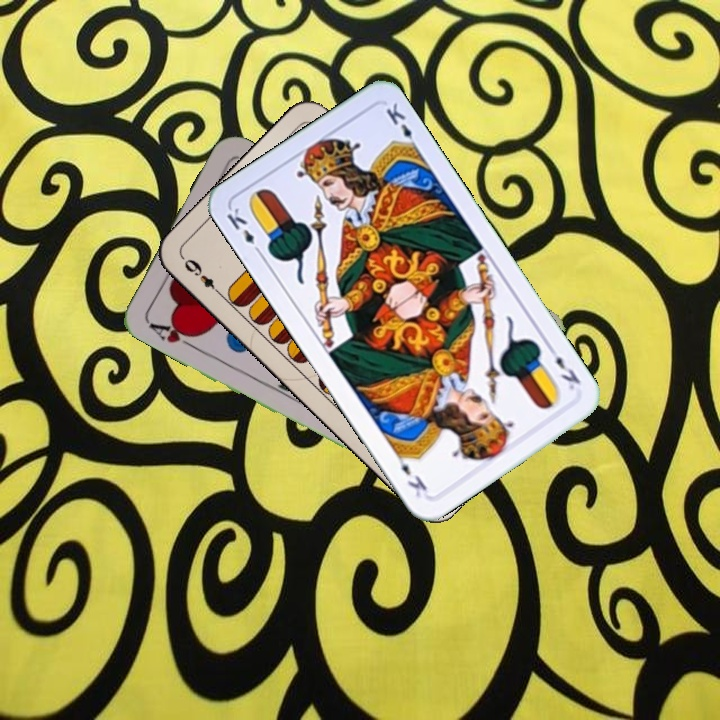E9: (179, 253, 225, 299)
EK: (222, 203, 265, 258), (543, 341, 584, 393)
HA: (143, 317, 201, 351)
